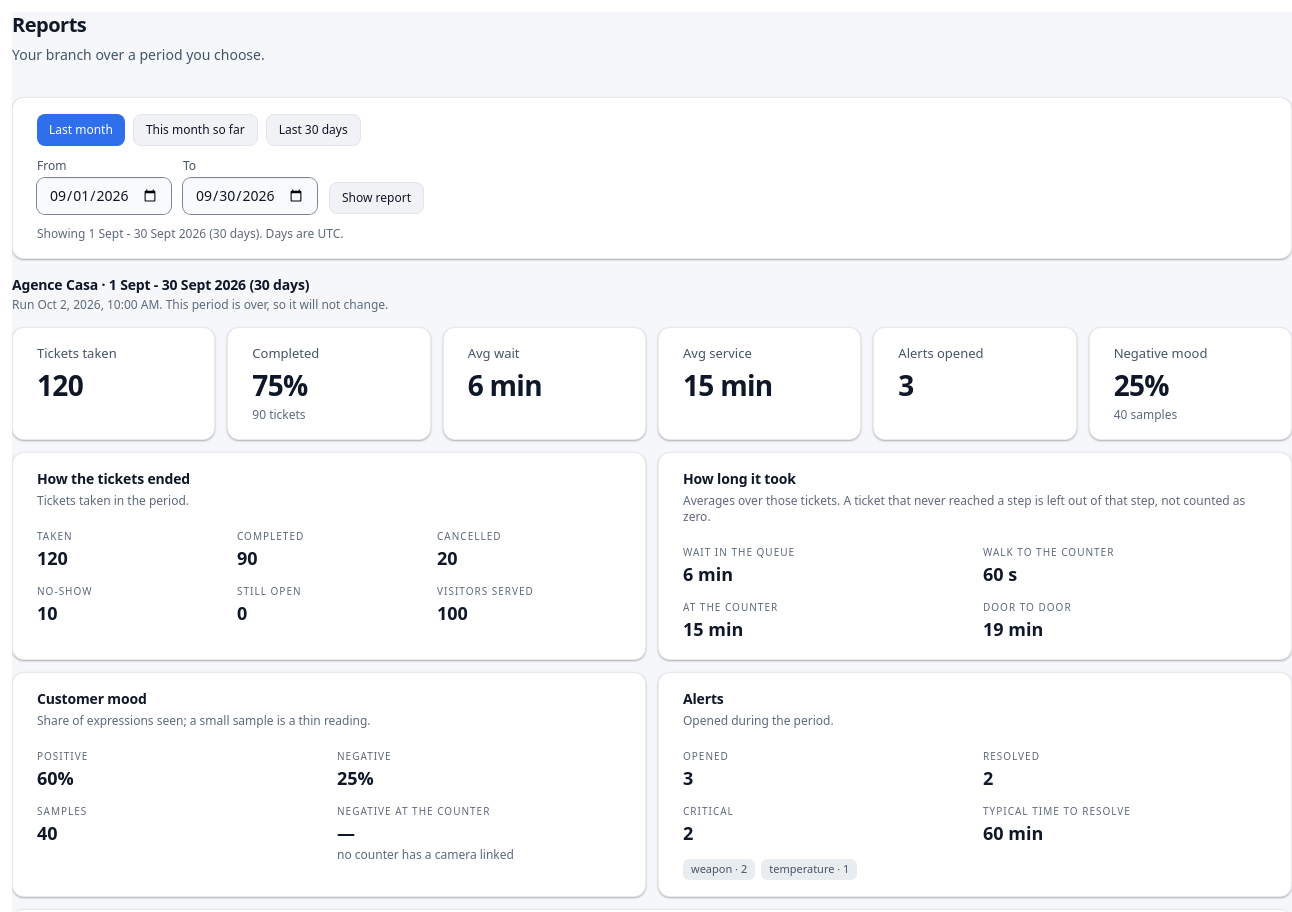
Test case: Reports › says a finished period will not change, and a period reaching today is a snapshot
Check: the text "This period is over" is shown, box [163,296,388,313]
Click the button "This month so far".
click(195, 130)  # box [133,114,258,146]
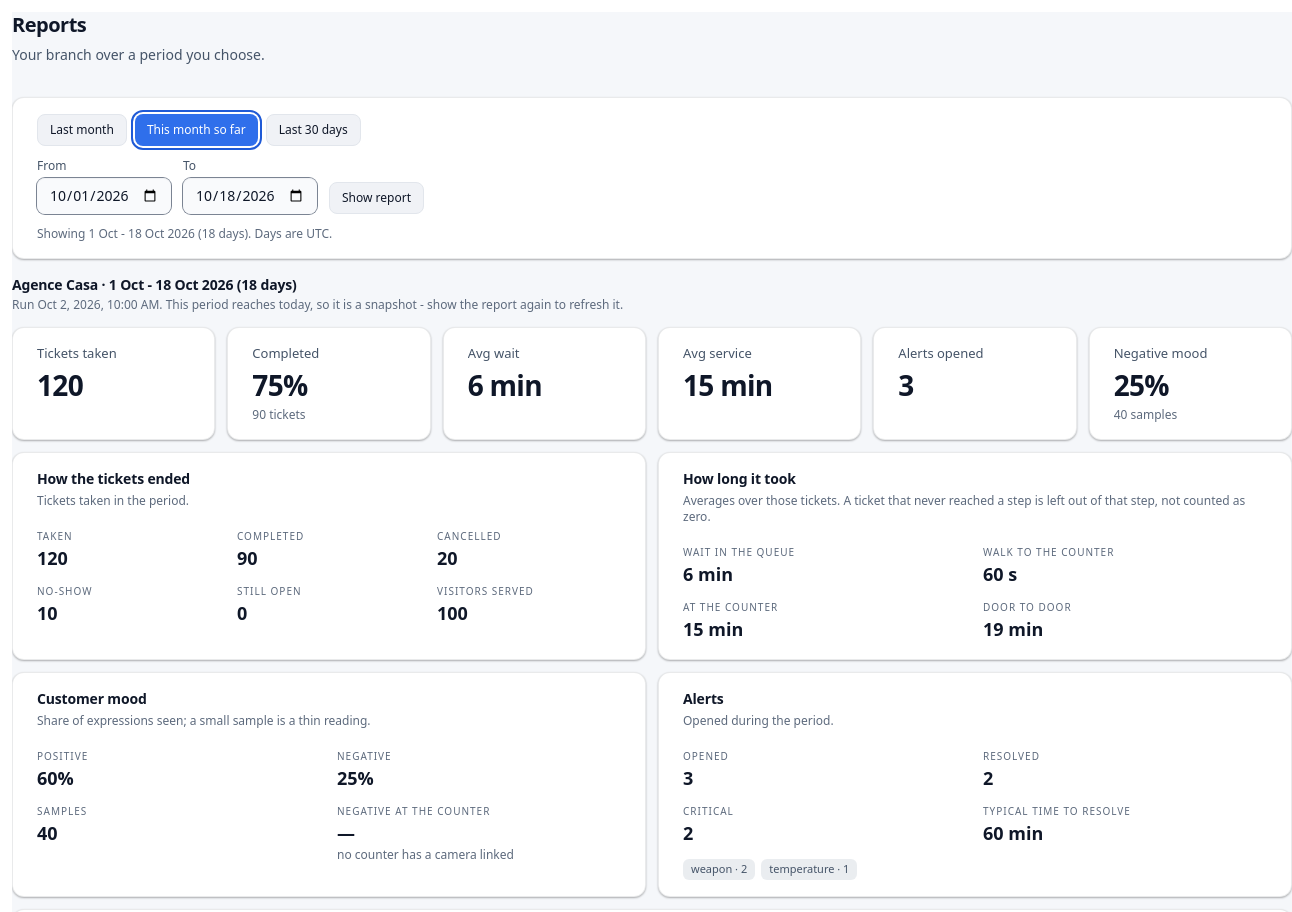
Check: the text "it is a snapshot" is shown, box [163,296,623,313]
